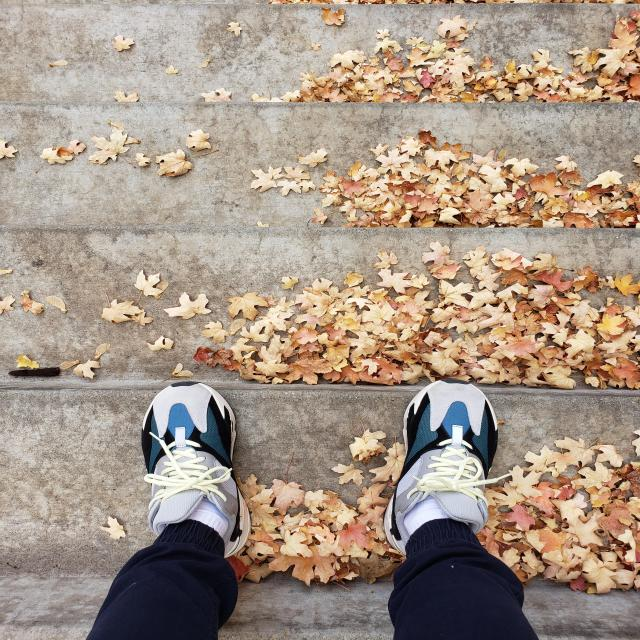shoe: (90, 379, 263, 573), (350, 380, 510, 558)
